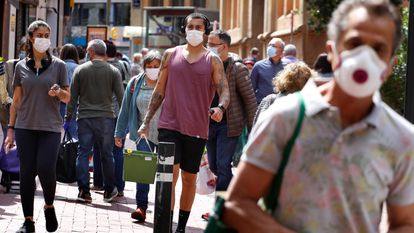with_mask: (341, 5, 391, 92), (30, 24, 49, 53), (188, 18, 204, 44), (145, 60, 160, 81), (266, 40, 282, 59)
